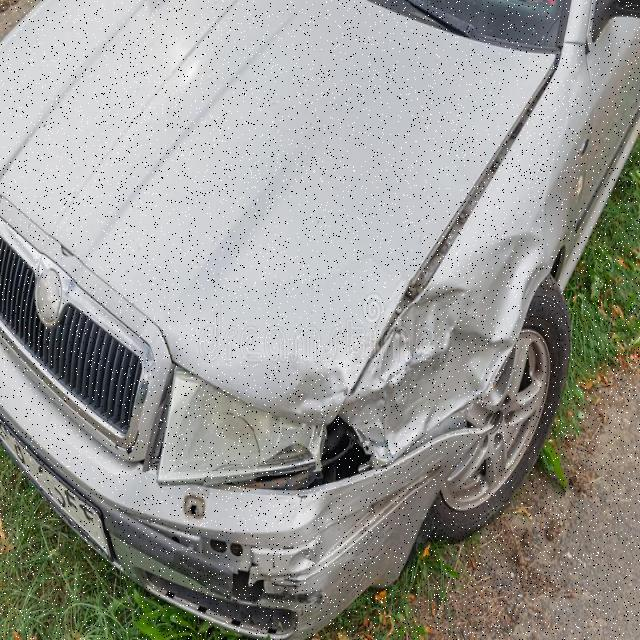Headlight-Damage: (157, 348, 334, 499)
fender-dent: (352, 236, 583, 526)
front-bumper-dent: (39, 435, 492, 629)
